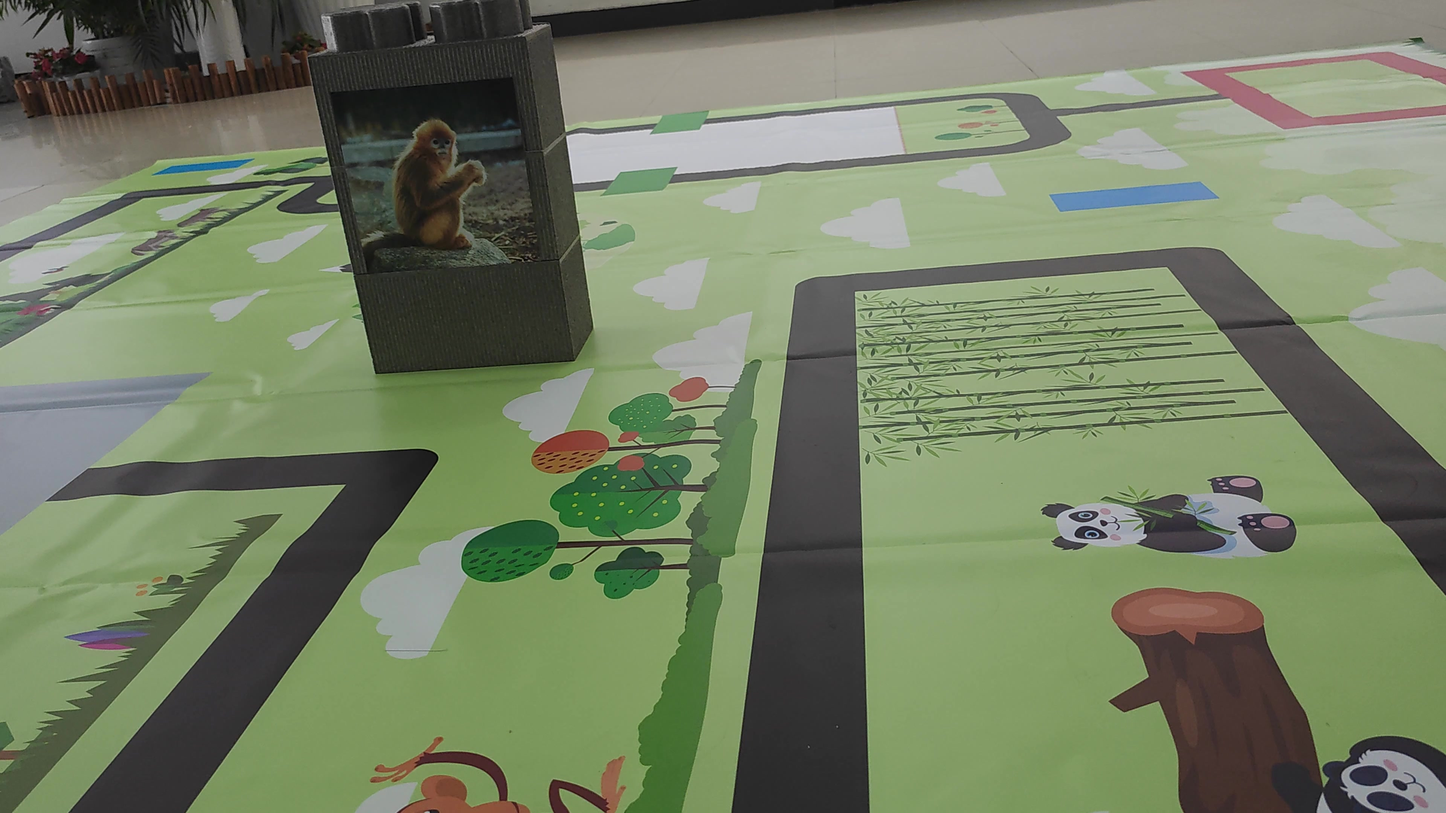monkey: (346, 107, 512, 265)
